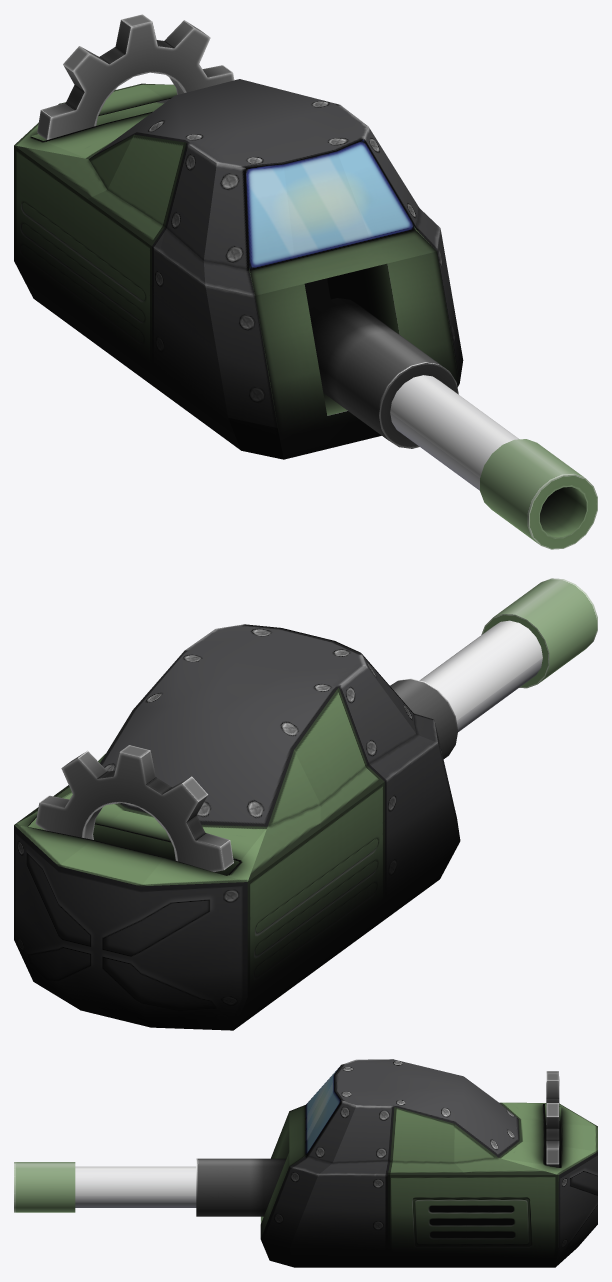
The model's file is turret.FBX.
The picture shows the model from 3 angles, top to bottom: view 1: azimuth 30°, elevation 25°; view 2: azimuth 150°, elevation 25°; view 3: azimuth 270°, elevation 25°; orthographic projection. The views are drawn at different scales.
Visible parts, largest first — view 1: Box001, Cylinder001, Tube002, Tube003, Cylinder003; view 2: Box001, Tube002, Cylinder003, Tube003, Cylinder001; view 3: Box001, Cylinder003, Cylinder001, Tube003, Tube002.
Part boxes in pixels (x1,y1,x2,y2): Box001: [14, 79, 463, 459]; Cylinder001: [309, 298, 458, 448]; Tube002: [37, 14, 234, 139]; Tube003: [480, 439, 597, 549]; Cylinder003: [390, 375, 519, 490]; Box001: [14, 624, 460, 1030]; Tube002: [35, 745, 233, 871]; Cylinder003: [419, 620, 542, 731]; Tube003: [481, 578, 597, 688]; Cylinder001: [390, 678, 458, 759]; Box001: [260, 1059, 597, 1267]; Cylinder003: [75, 1166, 196, 1207]; Cylinder001: [196, 1158, 286, 1216]; Tube003: [14, 1162, 75, 1212]; Tube002: [546, 1071, 559, 1167].
Size of the model in its own units: 55.31 by 57.27 by 189.
